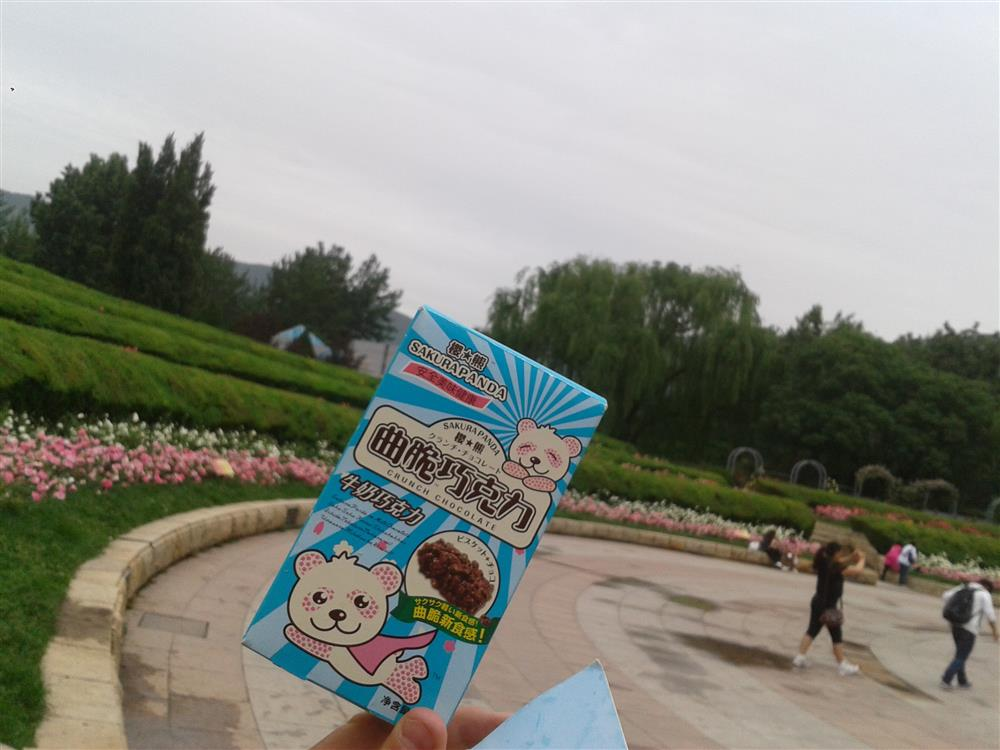crunch: (247, 291, 611, 729)
